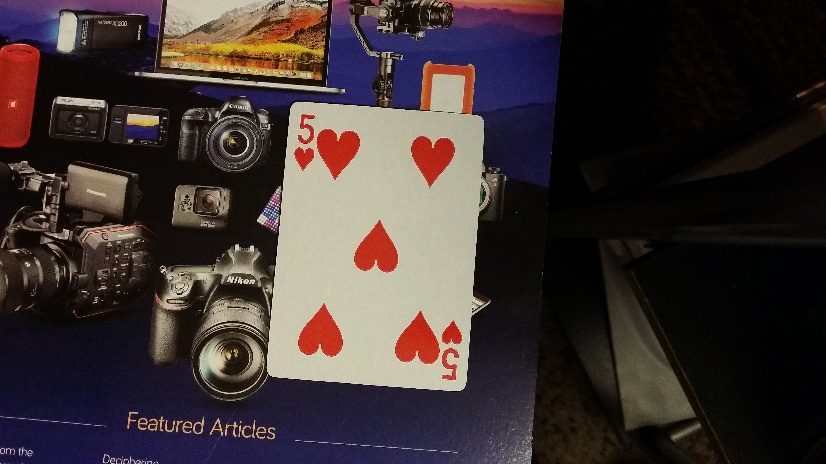H5: (438, 311, 462, 382), (294, 110, 317, 175)
